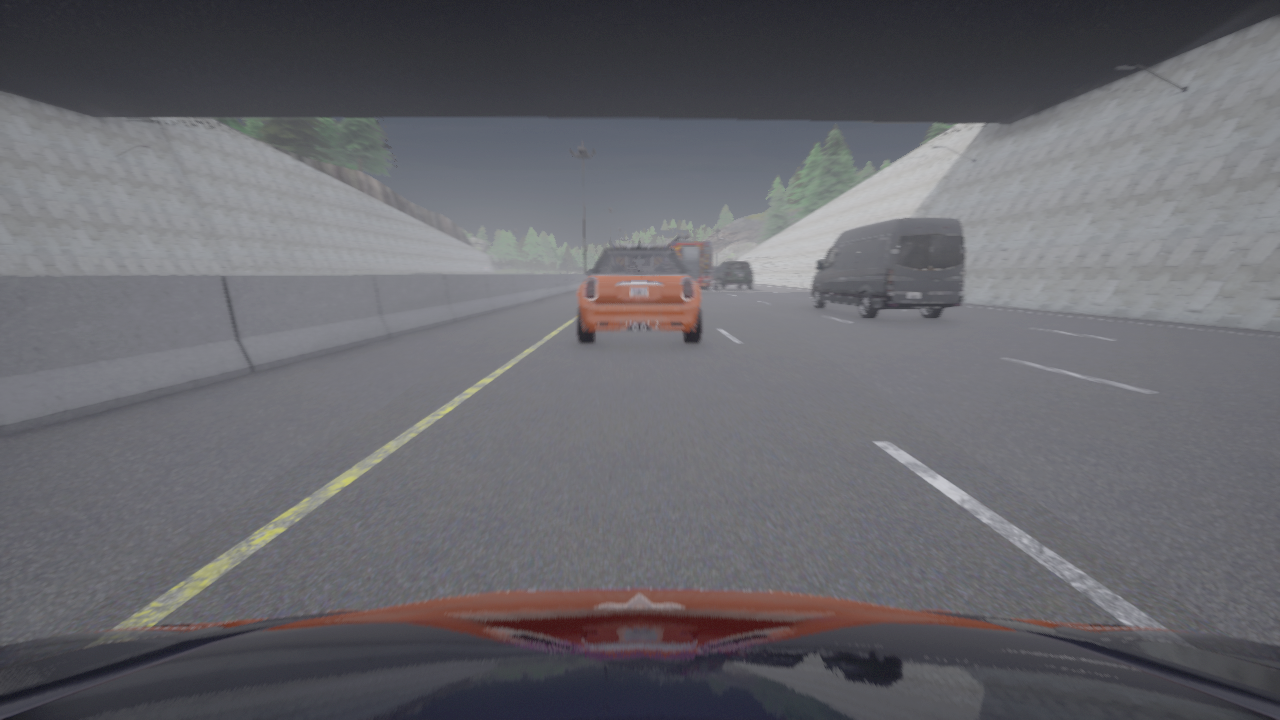cyclist: (0, 588, 1279, 719), (811, 217, 966, 318), (577, 239, 701, 343), (666, 234, 711, 289), (714, 261, 752, 289), (613, 244, 665, 247), (712, 266, 718, 281)
